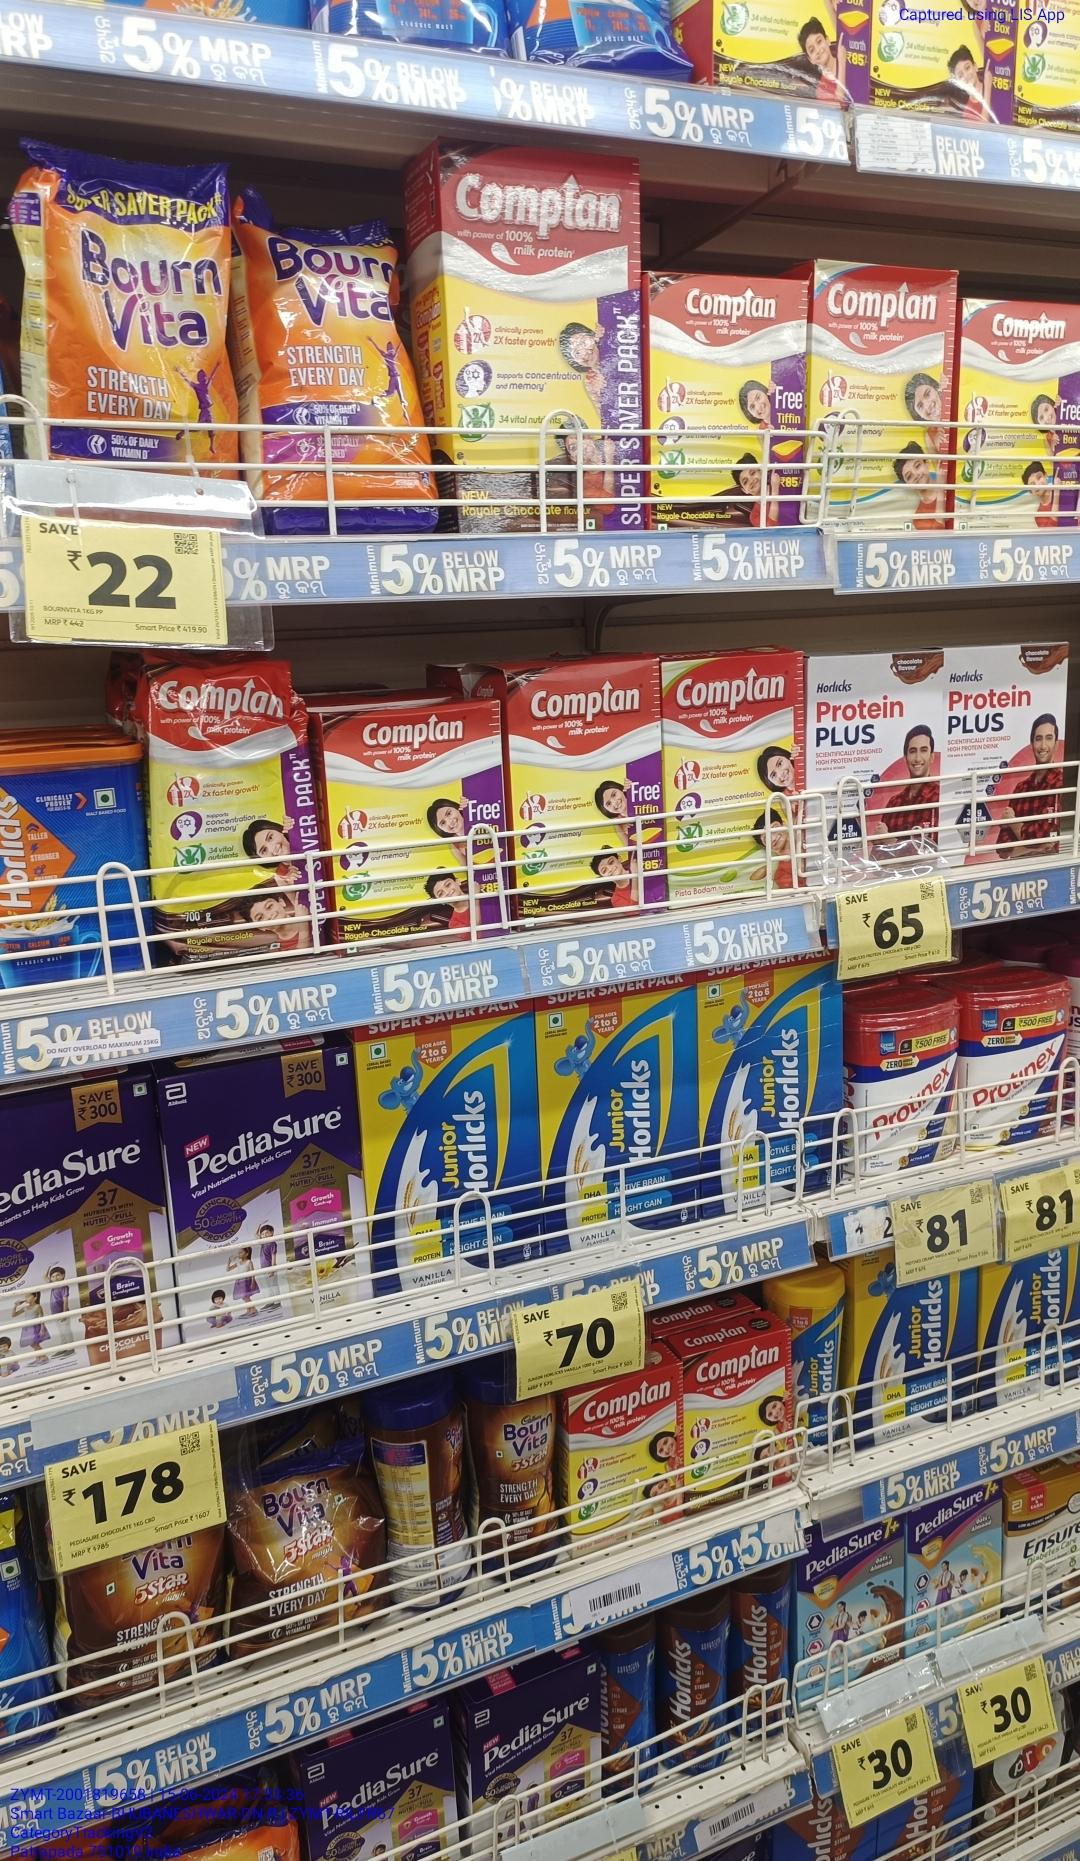BOURN_VITA_FIVE_STAR_MAGIC_500_G_JAR: (476, 1375, 557, 1582)
BOURN_VITA_FIVE_STAR_MAGIC_500_G_POUCH: (60, 1540, 220, 1723), (231, 1465, 372, 1666)
COMPLAN_CREAMY_CLASSIC_500_G_PACK: (811, 257, 957, 536)
COMPLAN_PISTA_BADAM_500_GMS_PACK: (662, 666, 811, 904)
COMPLAN_RC_POUCH_700_GMS_12: (152, 672, 314, 973)
HORLICKS_JUNIOR_VANILLA_500_GM_JAR: (796, 1275, 843, 1461)
HORLICK_CHOCOLATE_500_G_JAR: (662, 1596, 730, 1777), (599, 1612, 657, 1812), (738, 1574, 792, 1761)
HORLICK_MALT_1_KG_CONTAINER: (0, 751, 144, 986)
PEDIASURE_7_PLUS_CHOCOLATE_400_G_PACK: (796, 1520, 905, 1685)
PROTINEX_CHOCOLATE_400_G_JAR: (966, 987, 1071, 1153)
PROTINEX_VANILLA_400_G_JAR: (852, 1006, 960, 1180)
